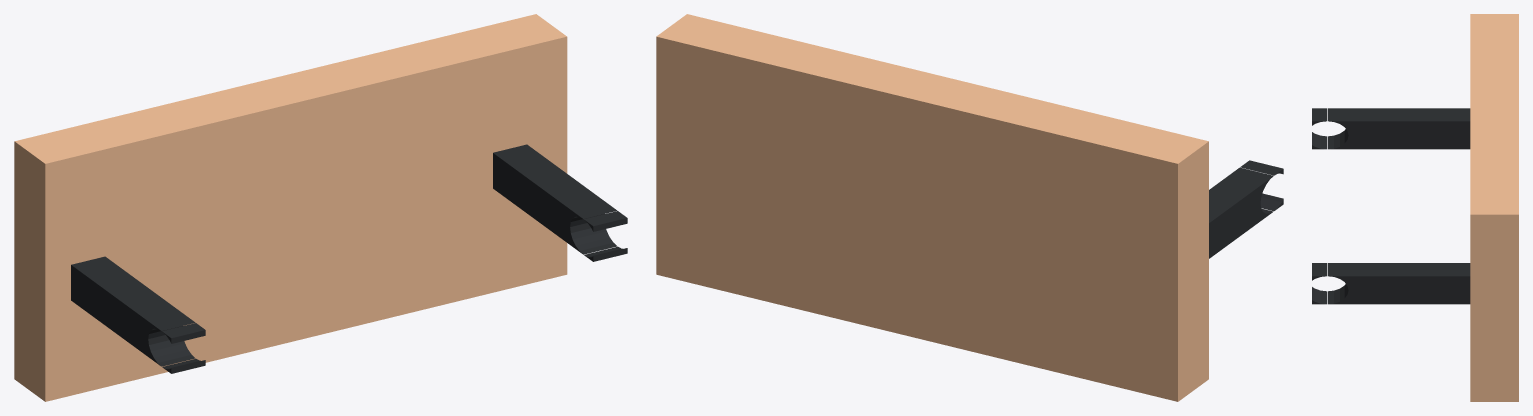
File: tinker.obj
The picture shows the model from 3 angles, left to right: view 1: azimuth 30°, elevation 25°; view 2: azimuth 150°, elevation 25°; view 3: azimuth 270°, elevation 25°; orthographic projection. The views are drawn at different scales.
Visible parts, largest first — view 1: group_0_16500122, group_0_2829873; view 2: group_0_16500122, group_0_2829873; view 3: group_0_16500122, group_0_2829873.
Part boxes in pixels (x1,y1,x2,y2): group_0_16500122: (14,14,567,401); group_0_2829873: (71,144,627,373); group_0_16500122: (656,14,1208,401); group_0_2829873: (1209,160,1283,258); group_0_16500122: (1470,14,1518,401); group_0_2829873: (1312,108,1470,304).
Size of the model in its own units: 39 by 17 by 17.
